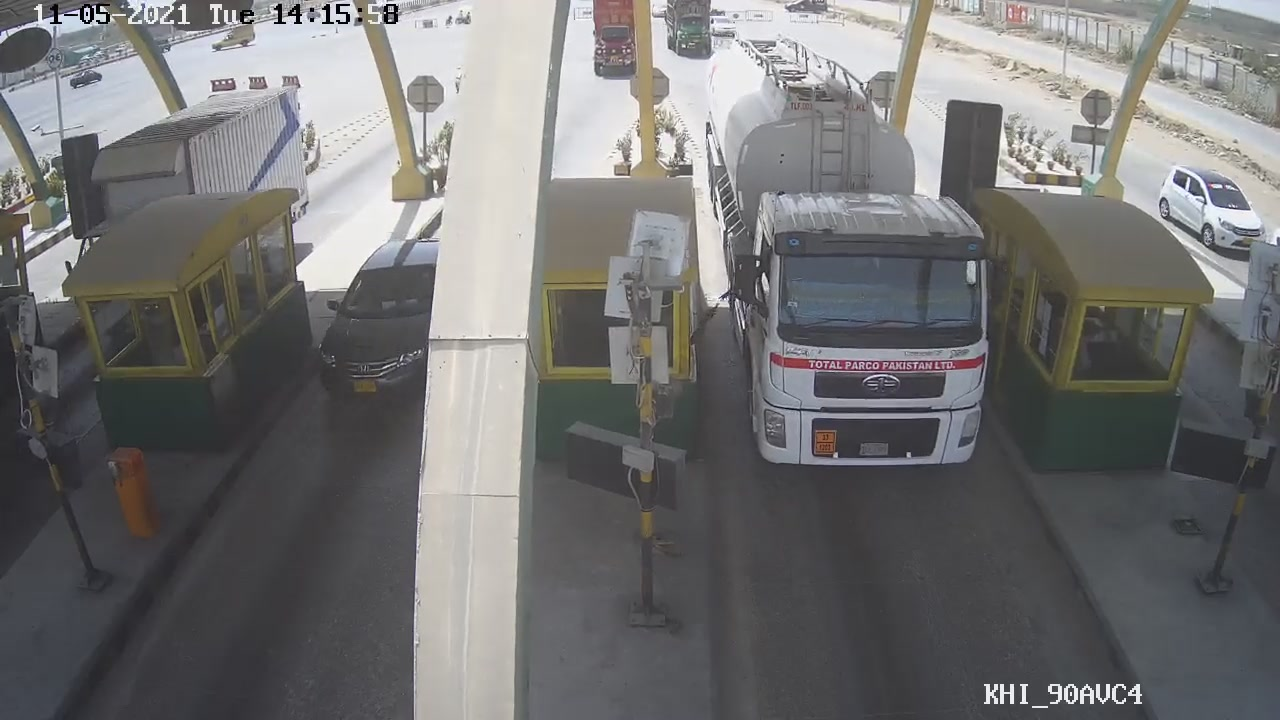F6: (708, 56, 1004, 470)
